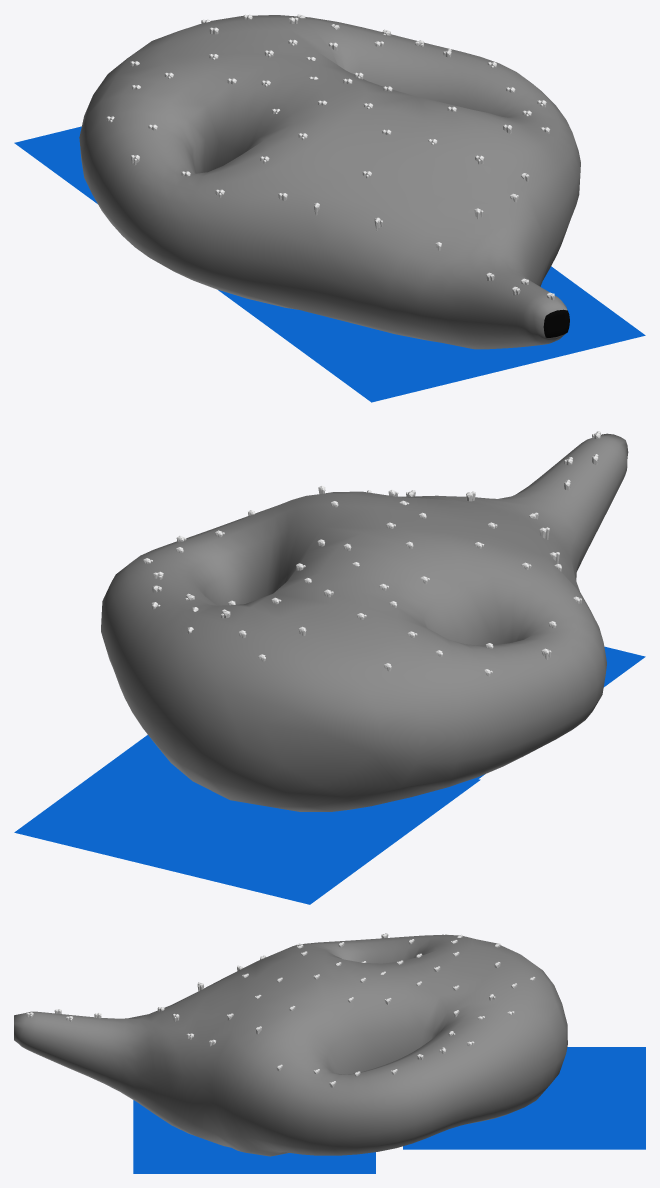
Rendered from MushroomsCave.fbx.
The picture shows the model from 3 angles, top to bottom: view 1: azimuth 30°, elevation 25°; view 2: azimuth 150°, elevation 25°; view 3: azimuth 270°, elevation 25°; orthographic projection. The views are drawn at different scales.
Parts seen in each view (by area): view 1: Cube, Plane.002, Plane.003; view 2: Cube, Plane.003, Plane.002; view 3: Cube, Plane.003, Plane.002.
Part boxes in pixels (left/top/right/bottom): Cube: left=79, top=15, right=580, bottom=349; Plane.002: left=218, top=266, right=645, bottom=402; Plane.003: left=14, top=126, right=97, bottom=203; Cube: left=101, top=433, right=628, bottom=811; Plane.003: left=14, top=735, right=480, bottom=904; Plane.002: left=475, top=646, right=645, bottom=778; Cube: left=14, top=934, right=567, bottom=1156; Plane.003: left=403, top=1047, right=645, bottom=1149; Plane.002: left=133, top=1100, right=375, bottom=1173.
Size of the model in its own units: 917 by 392 by 1536.
